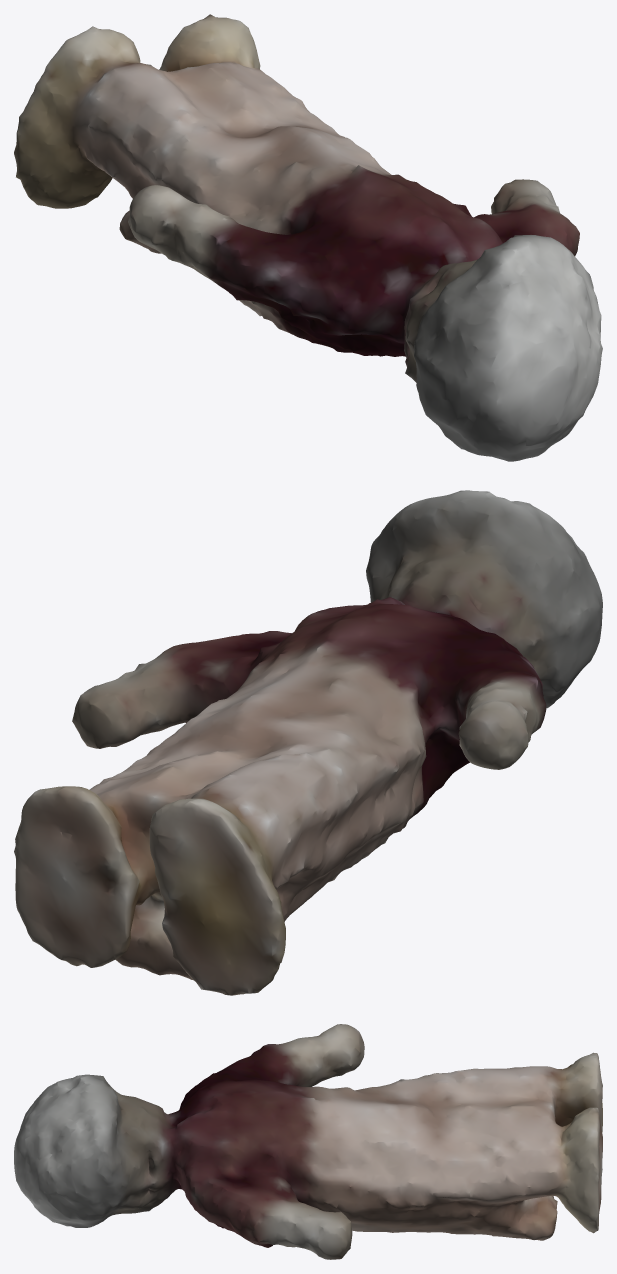
The model's file is grandmother.glb.
3 views of the same model, one above another, from view 1: azimuth 30°, elevation 25°; view 2: azimuth 150°, elevation 25°; view 3: azimuth 270°, elevation 25° (orthographic). The views are drawn at different scales.
Size of the model in its own units: 0.6014 by 0.2911 by 0.9963.
